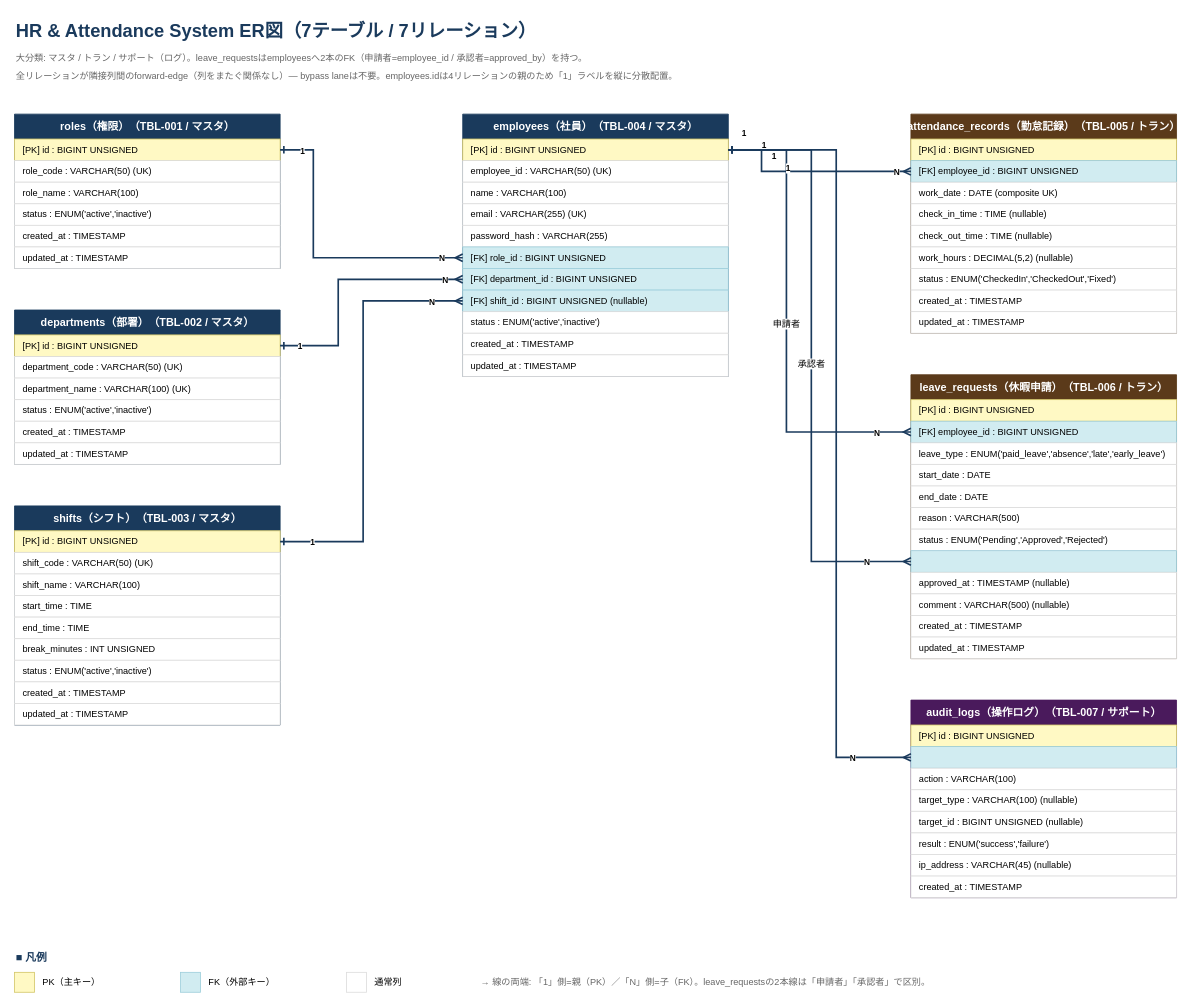
The diagram is 1194 pixels wide and 1007 high, and some of its shapes have lost their labels. Each missing label, with the centre of its shape:
"[FK] approved_by : BIGINT UNSIGNED (nullable)" belongs at point 1043,561.
"[FK] employee_id : BIGINT UNSIGNED (nullable)" belongs at point 1043,757.
